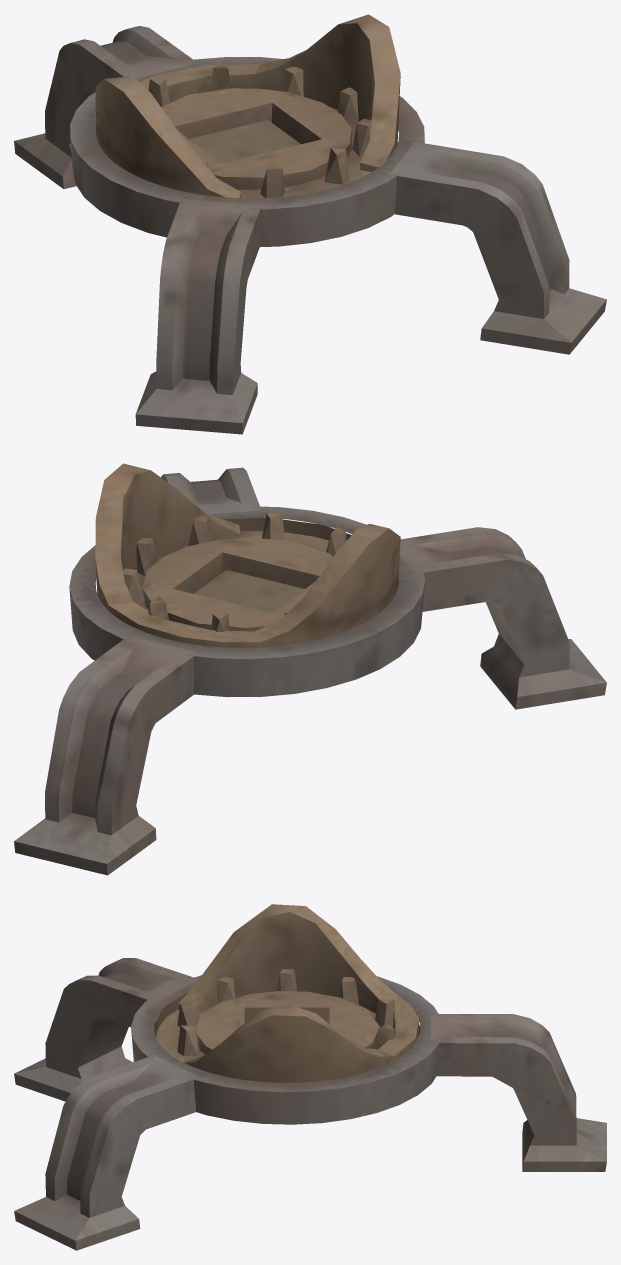
The model's file is stack-inserter.glb.
The picture shows the model from 3 angles, top to bottom: view 1: azimuth 30°, elevation 25°; view 2: azimuth 150°, elevation 25°; view 3: azimuth 270°, elevation 25°; orthographic projection. The views are drawn at different scales.
Parts seen in each view (by area): view 1: body; view 2: body; view 3: body.
Boxes of the visible parts, <box> form: body: <box>14,14,606,434</box>; body: <box>14,463,606,875</box>; body: <box>14,904,606,1250</box>.
Size of the model in its own units: 0.9048 by 0.4168 by 1.15.
1 material, 1 textured.
